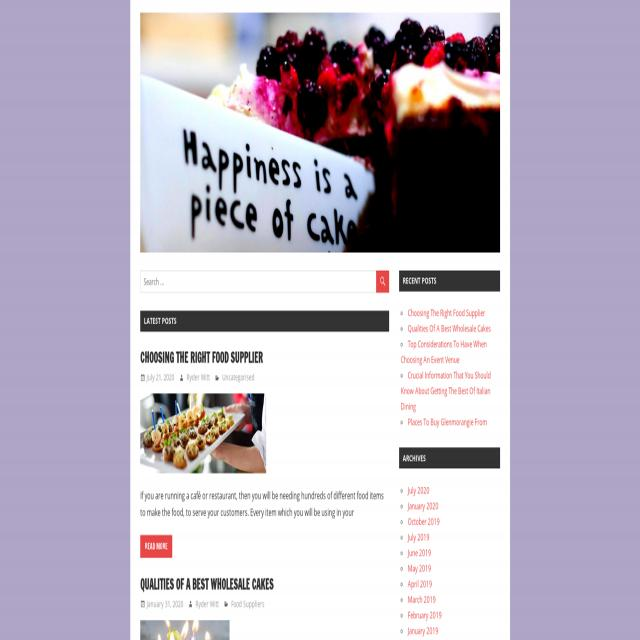button: (140, 13, 500, 253), (140, 394, 266, 474), (140, 618, 228, 640), (140, 535, 172, 558), (376, 270, 390, 295)
field: (140, 270, 377, 293)
